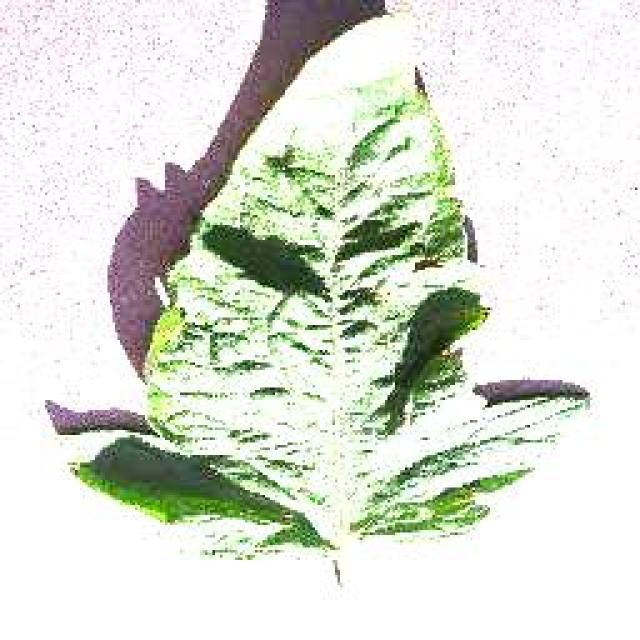Tomato___Target_Spot: (72, 15, 588, 585)
